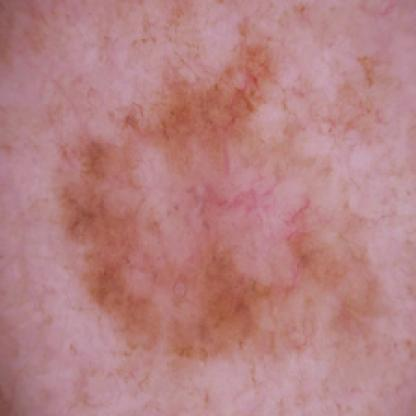Skin_Cancer-Malignant: (52, 25, 326, 364)
